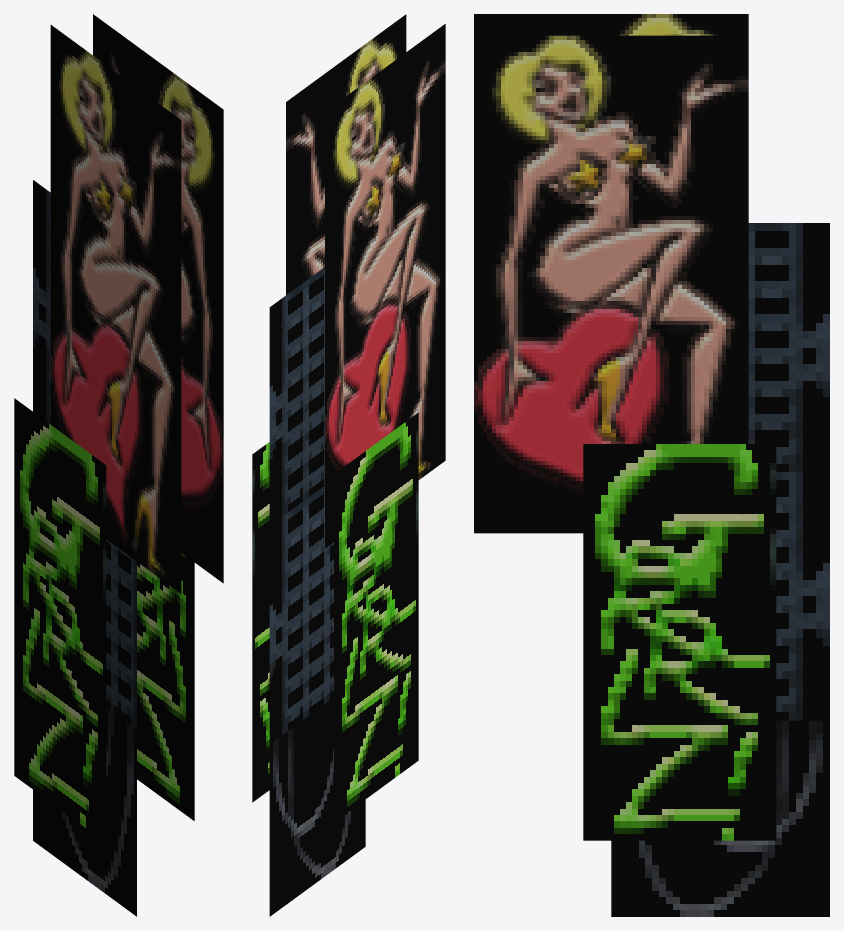
3 views of the same model, side by side, from view 1: azimuth 30°, elevation 25°; view 2: azimuth 150°, elevation 25°; view 3: azimuth 270°, elevation 25° (orthographic). The views are drawn at different scales.
Parts seen in each view (by area): view 1: prim082-Rectangle01; view 2: prim082-Rectangle01; view 3: prim082-Rectangle01.
Boxes of the visible parts, box(x1,y1,x2,y2) form: prim082-Rectangle01: box(14, 14, 223, 916); prim082-Rectangle01: box(252, 14, 445, 916); prim082-Rectangle01: box(474, 14, 829, 916).
Bounding box in the file's own units: 50 × 459 × 166.
4 materials, 4 textured.
